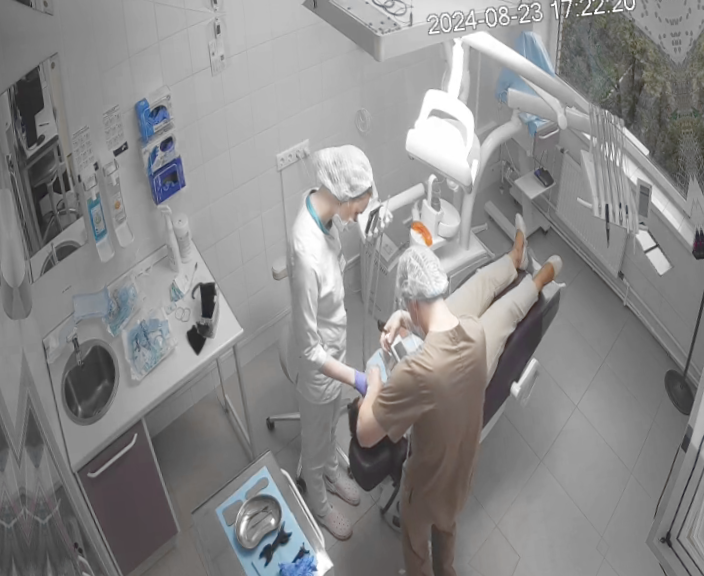Patient: (317, 203, 590, 498)
